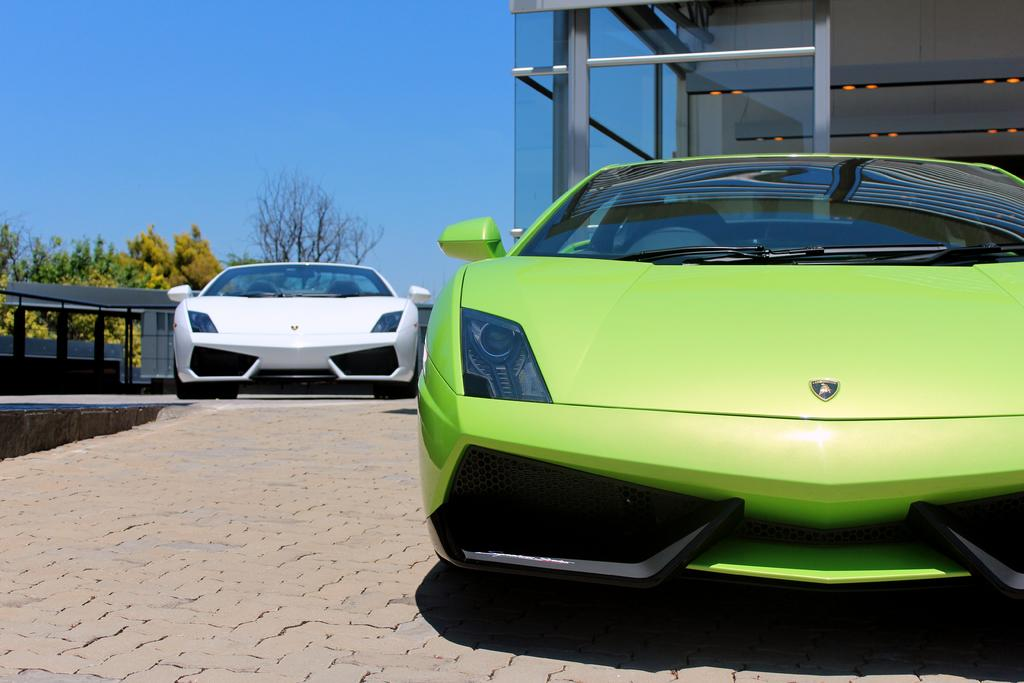Car: (416, 150, 1023, 603), (166, 260, 435, 400)
